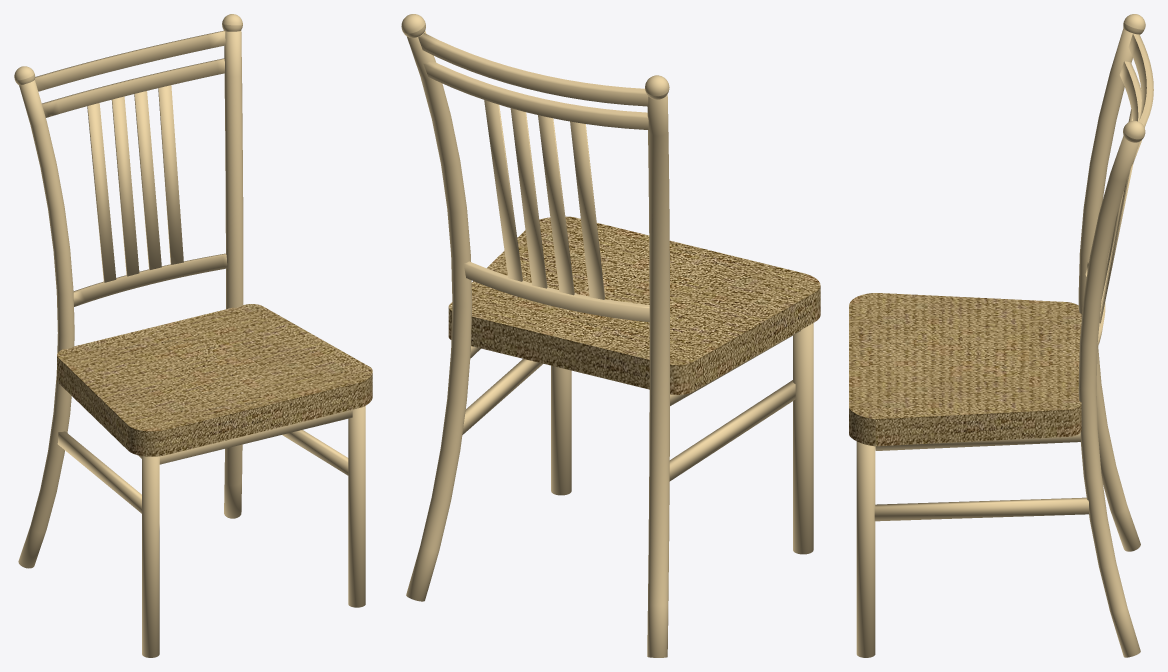
Rendered from silla+rubi.obj.
3 views of the same model, side by side, from view 1: azimuth 30°, elevation 25°; view 2: azimuth 150°, elevation 25°; view 3: azimuth 270°, elevation 25° (orthographic). The views are drawn at different scales.
Parts seen in each view (by area): view 1: Mesh20 asiento_standar1 Componente_1_1 Model, Mesh16 silla_rubi1 Componente_1_1 Model, Mesh19 silla_rubi1 Componente_1_1 Model, Mesh17 silla_rubi1 Componente_1_1 Model, Mesh18 silla_rubi1 Componente_1_1 Model, Mesh3 Group3 silla_rubi1 Componente_1_1 Model, Mesh4 Group4 silla_rubi1 Componente_1_1 Model, Mesh12 solera4 silla_rubi1 Componente_1_1 Model, Mesh10 solera3 silla_rubi1 Componente_1_1 Model, Mesh8 solera1 silla_rubi1 Componente_1_1 Model, Mesh5 Group5 silla_rubi1 Componente_1_1 Model, Mesh9 solera2 silla_rubi1 Componente_1_1 Model (+2 smaller); view 2: Mesh20 asiento_standar1 Componente_1_1 Model, Mesh16 silla_rubi1 Componente_1_1 Model, Mesh19 silla_rubi1 Componente_1_1 Model, Mesh17 silla_rubi1 Componente_1_1 Model, Mesh3 Group3 silla_rubi1 Componente_1_1 Model, Mesh4 Group4 silla_rubi1 Componente_1_1 Model, Mesh5 Group5 silla_rubi1 Componente_1_1 Model, Mesh9 solera2 silla_rubi1 Componente_1_1 Model, Mesh8 solera1 silla_rubi1 Componente_1_1 Model, Mesh10 solera3 silla_rubi1 Componente_1_1 Model, Mesh7 Group7 silla_rubi1 Componente_1_1 Model, Mesh12 solera4 silla_rubi1 Componente_1_1 Model (+2 smaller); view 3: Mesh20 asiento_standar1 Componente_1_1 Model, Mesh19 silla_rubi1 Componente_1_1 Model, Mesh16 silla_rubi1 Componente_1_1 Model, Mesh18 silla_rubi1 Componente_1_1 Model, Mesh6 Group6 silla_rubi1 Componente_1_1 Model, Mesh1 Group1 silla_rubi1 Componente_1_1 Model, Mesh3 Group3 silla_rubi1 Componente_1_1 Model, Mesh4 Group4 silla_rubi1 Componente_1_1 Model, Mesh12 solera4 silla_rubi1 Componente_1_1 Model.
Boxes of the visible parts, <box> form: Mesh20 asiento_standar1 Componente_1_1 Model: <box>57,304,372,456</box>; Mesh16 silla_rubi1 Componente_1_1 Model: <box>18,80,74,568</box>; Mesh19 silla_rubi1 Componente_1_1 Model: <box>224,30,243,518</box>; Mesh17 silla_rubi1 Componente_1_1 Model: <box>142,410,352,657</box>; Mesh18 silla_rubi1 Componente_1_1 Model: <box>348,406,365,607</box>; Mesh3 Group3 silla_rubi1 Componente_1_1 Model: <box>35,30,225,91</box>; Mesh4 Group4 silla_rubi1 Componente_1_1 Model: <box>42,58,224,117</box>; Mesh12 solera4 silla_rubi1 Componente_1_1 Model: <box>158,85,183,264</box>; Mesh10 solera3 silla_rubi1 Componente_1_1 Model: <box>111,96,139,276</box>; Mesh8 solera1 silla_rubi1 Componente_1_1 Model: <box>134,91,161,269</box>; Mesh5 Group5 silla_rubi1 Componente_1_1 Model: <box>73,253,227,306</box>; Mesh9 solera2 silla_rubi1 Componente_1_1 Model: <box>87,103,116,282</box>; Mesh20 asiento_standar1 Componente_1_1 Model: <box>448,216,820,394</box>; Mesh16 silla_rubi1 Componente_1_1 Model: <box>647,94,669,657</box>; Mesh19 silla_rubi1 Componente_1_1 Model: <box>406,31,472,601</box>; Mesh17 silla_rubi1 Componente_1_1 Model: <box>793,323,813,554</box>; Mesh3 Group3 silla_rubi1 Componente_1_1 Model: <box>418,33,648,106</box>; Mesh4 Group4 silla_rubi1 Componente_1_1 Model: <box>423,60,648,129</box>; Mesh5 Group5 silla_rubi1 Componente_1_1 Model: <box>463,261,649,322</box>; Mesh9 solera2 silla_rubi1 Componente_1_1 Model: <box>570,121,605,299</box>; Mesh8 solera1 silla_rubi1 Componente_1_1 Model: <box>510,108,547,288</box>; Mesh10 solera3 silla_rubi1 Componente_1_1 Model: <box>538,115,574,295</box>; Mesh7 Group7 silla_rubi1 Componente_1_1 Model: <box>669,380,795,481</box>; Mesh12 solera4 silla_rubi1 Componente_1_1 Model: <box>484,100,522,281</box>; Mesh20 asiento_standar1 Componente_1_1 Model: <box>849,293,1081,446</box>; Mesh19 silla_rubi1 Componente_1_1 Model: <box>1078,136,1140,657</box>; Mesh16 silla_rubi1 Componente_1_1 Model: <box>1078,28,1140,551</box>; Mesh18 silla_rubi1 Componente_1_1 Model: <box>856,441,875,657</box>; Mesh6 Group6 silla_rubi1 Componente_1_1 Model: <box>874,497,1088,521</box>; Mesh1 Group1 silla_rubi1 Componente_1_1 Model: <box>875,433,1080,450</box>; Mesh3 Group3 silla_rubi1 Componente_1_1 Model: <box>1128,33,1153,127</box>; Mesh4 Group4 silla_rubi1 Componente_1_1 Model: <box>1119,61,1141,164</box>; Mesh12 solera4 silla_rubi1 Componente_1_1 Model: <box>1099,163,1133,323</box>.
Bounding box in the file's own units: 19.92 × 39.37 × 20.32.
Materials: 4 (2 with a texture image).
